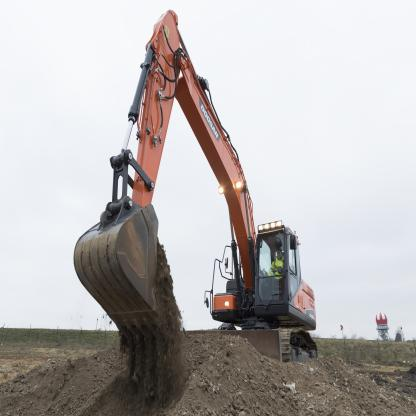excavator: (53, 9, 343, 392)
